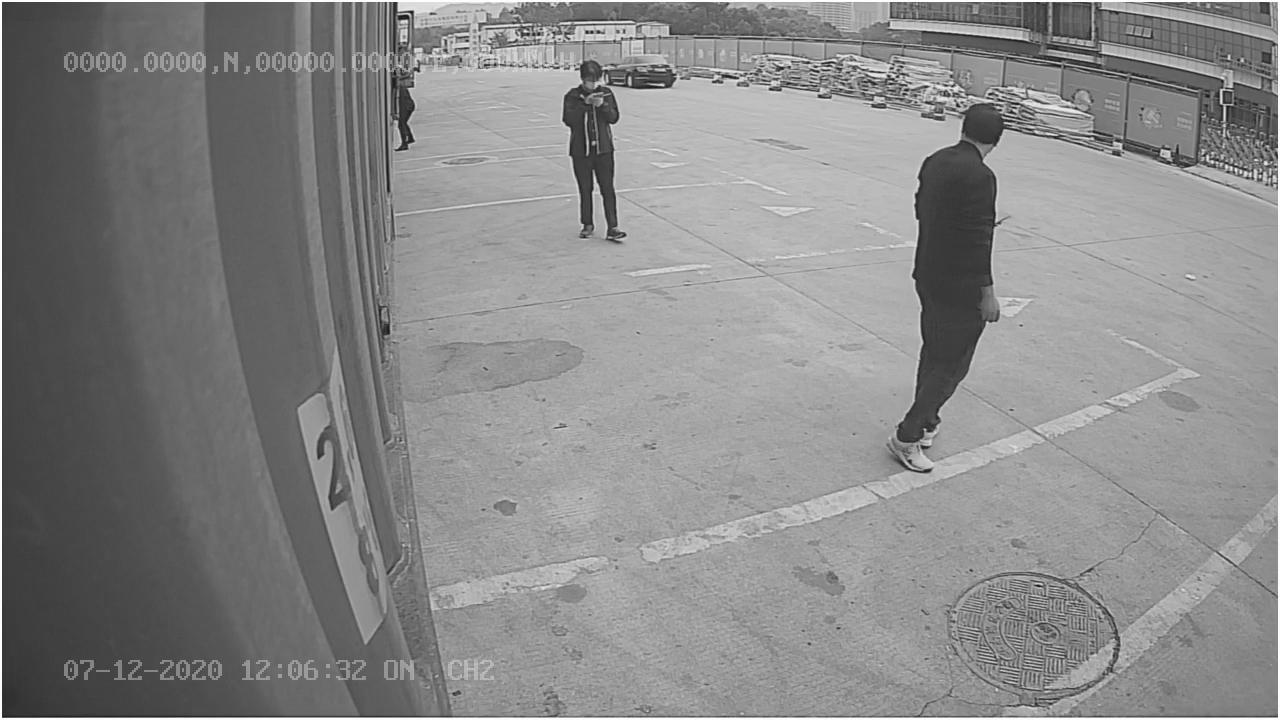person: (880, 96, 1011, 474)
